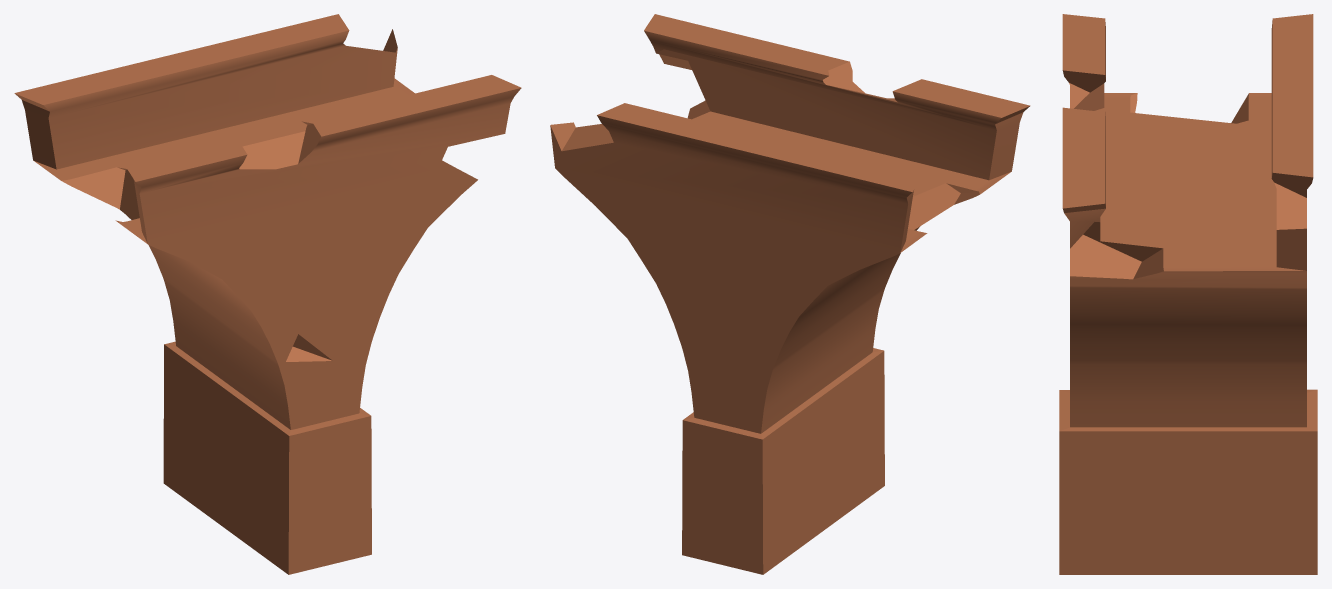
Rendered from old_bridge03.fbx.
3 renders of one model, left to right at view 1: azimuth 30°, elevation 25°; view 2: azimuth 150°, elevation 25°; view 3: azimuth 270°, elevation 25°, orthographic. The views are drawn at different scales.
Parts seen in each view (by area): view 1: old_bridge03; view 2: old_bridge03; view 3: old_bridge03.
Boxes of the visible parts, left/top/right/bottom form: old_bridge03: left=14, top=14, right=521, bottom=574; old_bridge03: left=550, top=14, right=1030, bottom=574; old_bridge03: left=1059, top=14, right=1317, bottom=574.
Bounding box in the file's own units: 9.27 × 9.83 × 5.2.
